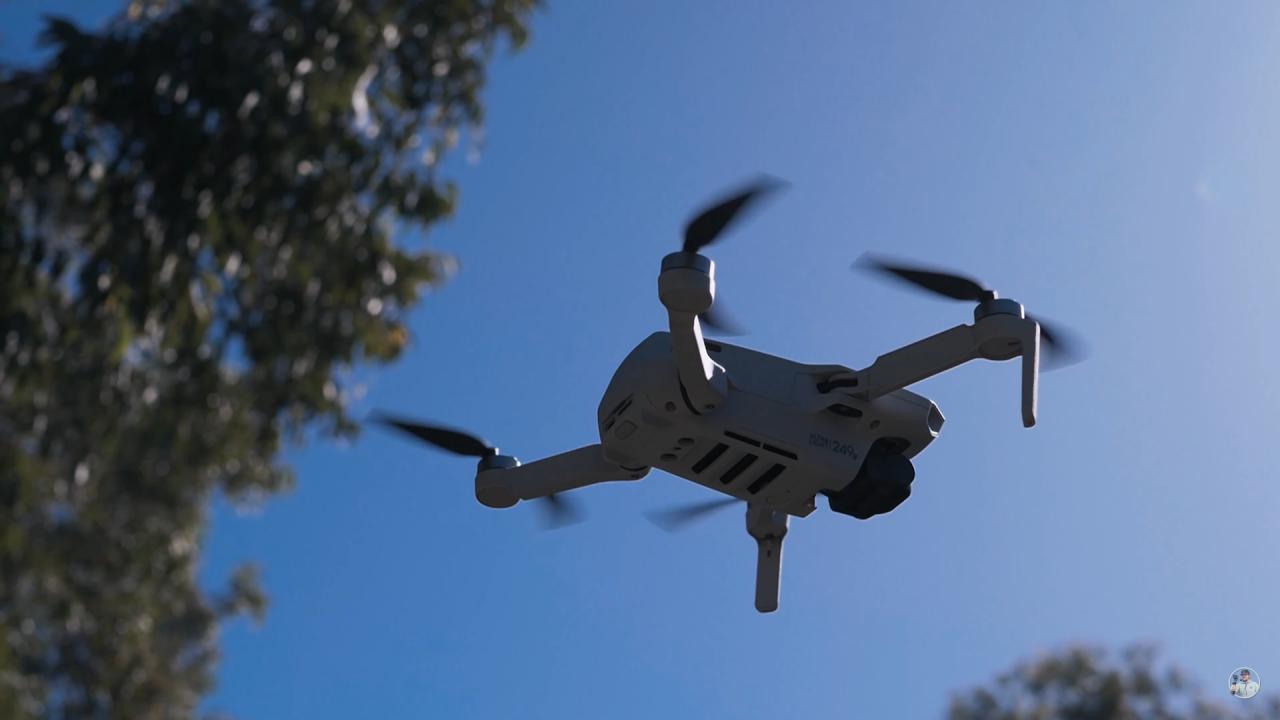Drone: (346, 154, 1106, 624)
